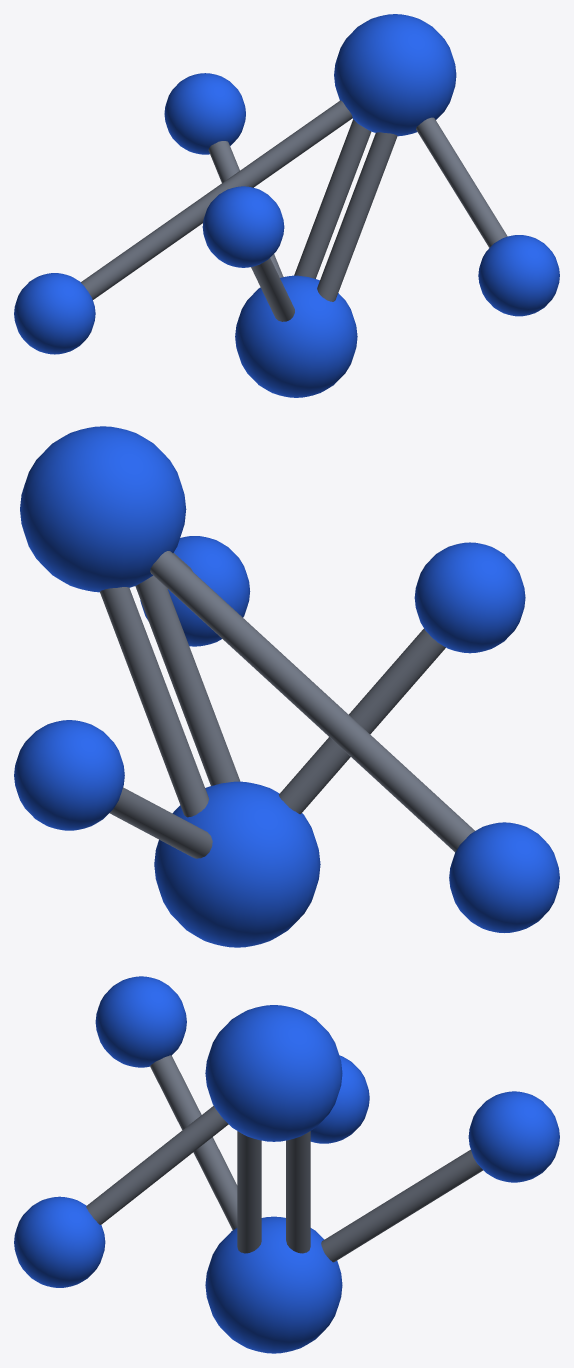
3 views of the same model, one above another, from view 1: azimuth 30°, elevation 25°; view 2: azimuth 150°, elevation 25°; view 3: azimuth 270°, elevation 25° (orthographic). The views are drawn at different scales.
Parts seen in each view (by area): view 1: C2, C1, object 12, H1, H3, H4, H2, object 7, object 8, object 11, object 9, object 10; view 2: C2, C1, object 12, H2, H1, H4, object 8, object 7, object 9, H3, object 10; view 3: C2, C1, H2, H1, H3, object 10, object 11, object 9, object 7, object 8, H4.
Boxes of the visible parts, x1,y1,x2,y2 form: C2: [334, 14, 456, 136]; C1: [235, 275, 357, 397]; object 12: [81, 100, 352, 299]; H1: [202, 186, 284, 267]; H3: [478, 235, 559, 316]; H4: [14, 273, 95, 354]; H2: [164, 73, 245, 154]; object 7: [317, 132, 397, 301]; object 8: [294, 119, 371, 278]; object 11: [416, 117, 507, 247]; object 9: [251, 258, 294, 321]; object 10: [208, 141, 283, 277]; C2: [20, 426, 186, 592]; C1: [154, 781, 320, 947]; object 12: [150, 551, 474, 852]; H2: [14, 720, 124, 830]; H1: [414, 542, 525, 653]; H4: [449, 822, 559, 932]; object 8: [99, 587, 208, 817]; object 7: [135, 575, 240, 785]; object 9: [279, 628, 445, 814]; H3: [140, 536, 250, 646]; object 10: [109, 787, 212, 858]; C2: [205, 1005, 342, 1141]; C1: [205, 1216, 342, 1353]; H2: [468, 1091, 559, 1182]; H1: [95, 976, 186, 1067]; H3: [14, 1196, 105, 1287]; object 10: [321, 1149, 483, 1262]; object 11: [86, 1105, 228, 1224]; object 9: [150, 1055, 237, 1229]; object 7: [237, 1131, 261, 1253]; object 8: [286, 1131, 310, 1253]; H4: [310, 1055, 369, 1143].
Size of the model in its own units: 0.3538 by 0.2825 by 0.3585.
